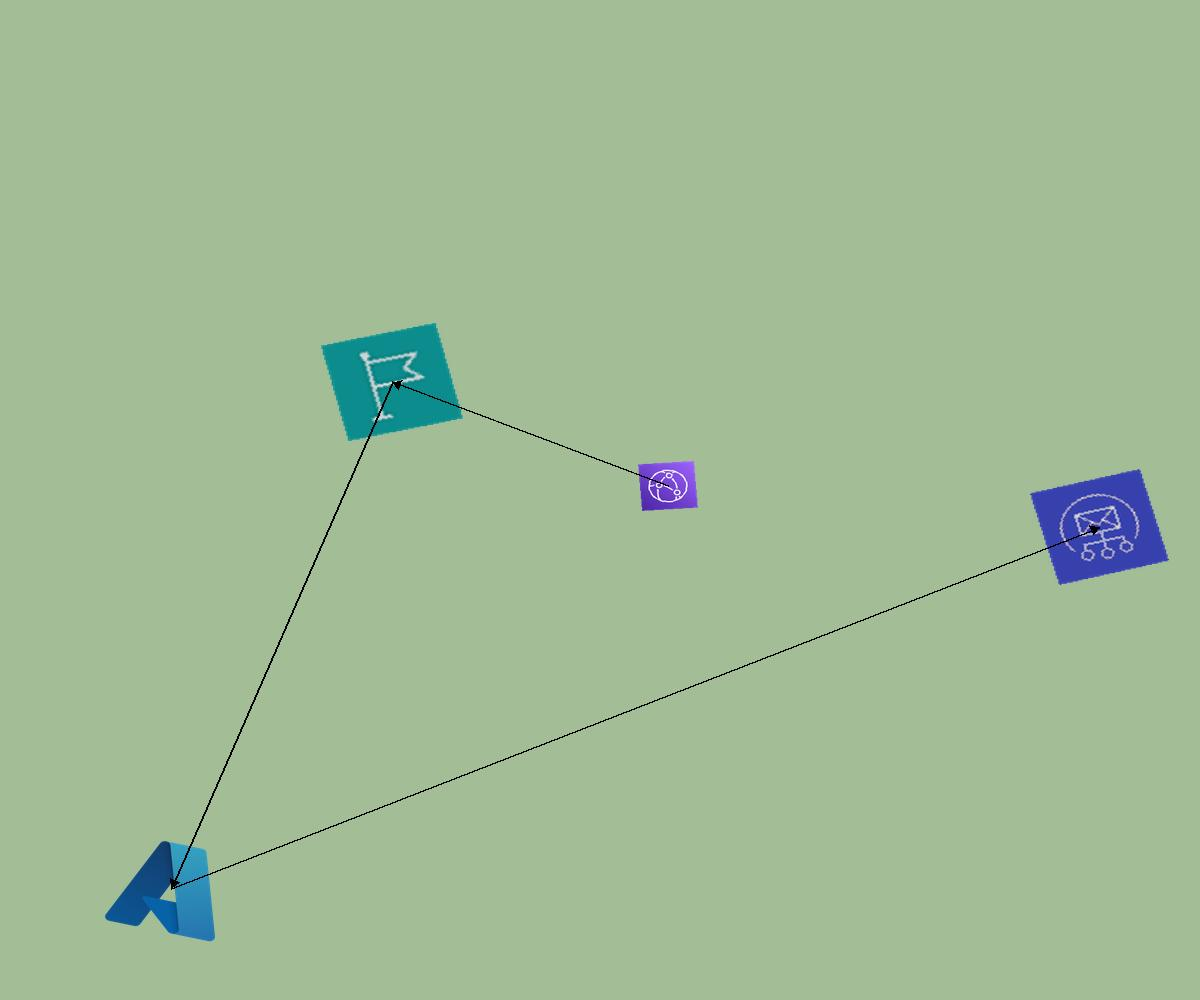AWS-CloudFront: (638, 461, 698, 511)
AWS-Region: (320, 322, 464, 442)
AWS-Simple-Email-Service: (1030, 469, 1169, 585)
Azure_services: (97, 826, 246, 950)
